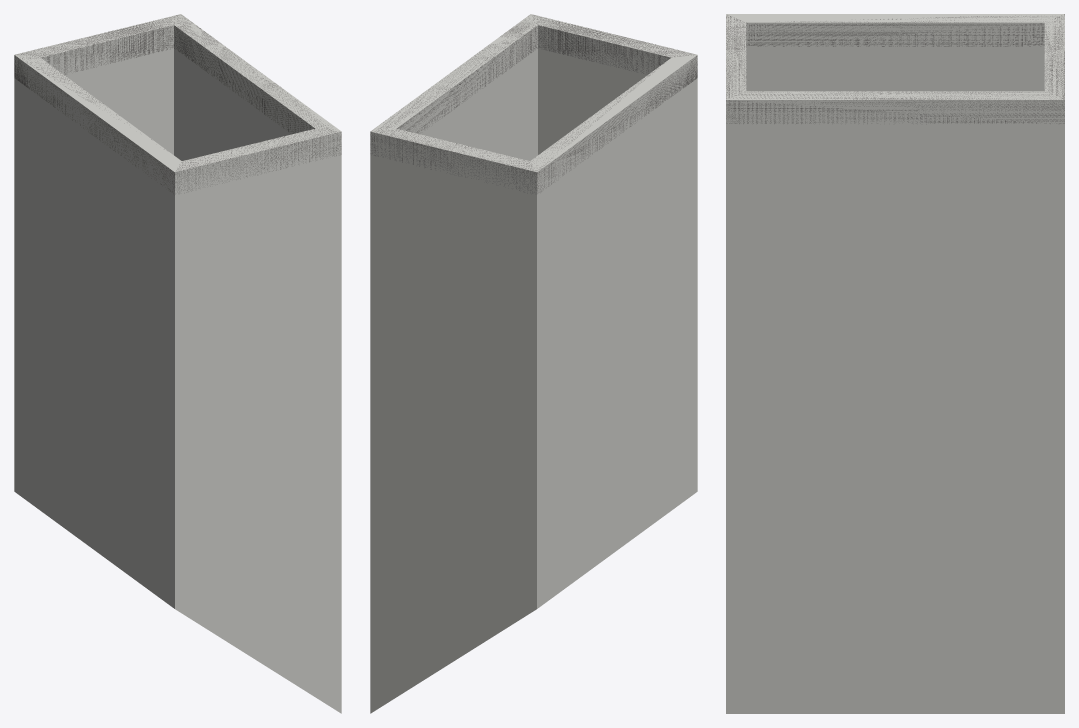
The model's file is ax_aero_34_inrd_radial_intake_s.glb.
3 renders of one model, left to right at view 1: azimuth 30°, elevation 25°; view 2: azimuth 150°, elevation 25°; view 3: azimuth 270°, elevation 25°, orthographic. The views are drawn at different scales.
Visible parts, largest first — view 1: scoop, lip; view 2: scoop, lip; view 3: scoop, lip.
Boxes of the visible parts, x1,y1,x2,y2 form: scoop: (14, 14, 341, 713); lip: (14, 15, 341, 194); scoop: (370, 14, 697, 713); lip: (370, 15, 697, 193); scoop: (726, 14, 1064, 713); lip: (726, 14, 1064, 124).
Bounding box in the file's own units: 0.3 × 1 × 0.5.
2 materials, 1 textured.
